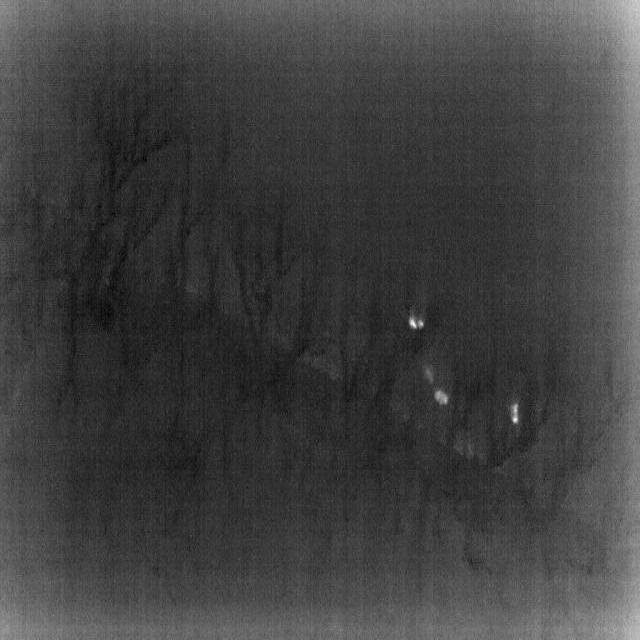deer: (434, 389, 452, 407), (408, 312, 425, 331), (508, 403, 520, 425)
